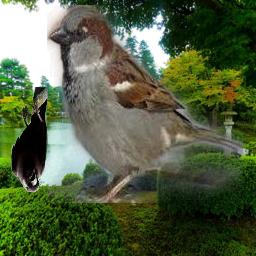Crow: (12, 88, 49, 193)
Sparrow: (47, 5, 243, 203)
